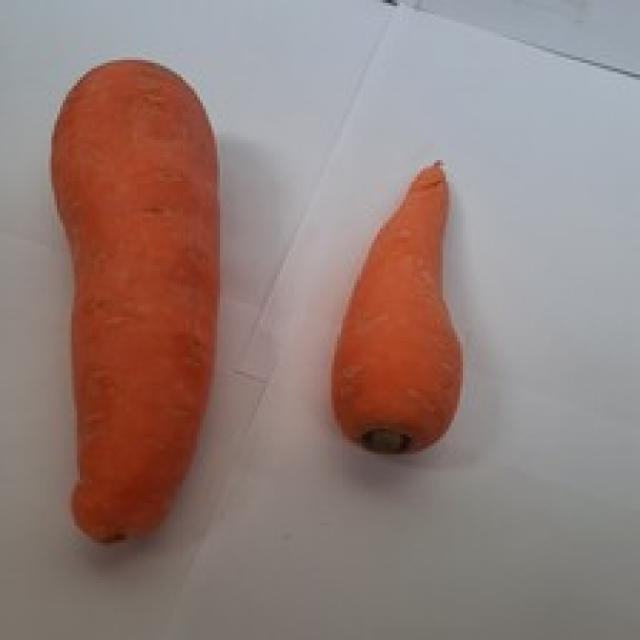carrot: (50, 56, 228, 552), (331, 160, 469, 459)
